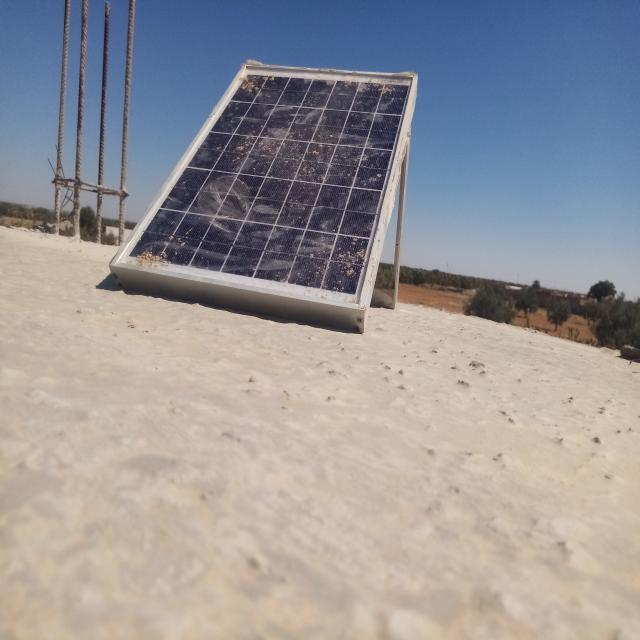faulty: (109, 64, 416, 310)
